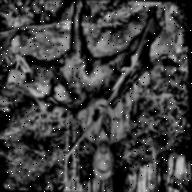boar: (0, 0, 190, 134)
